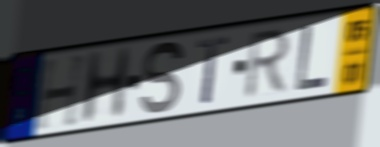H: (33, 50, 91, 134), (77, 44, 134, 128)
L: (294, 23, 331, 94)
R: (241, 26, 294, 102)
S: (139, 39, 186, 117)
T: (195, 34, 232, 107)
